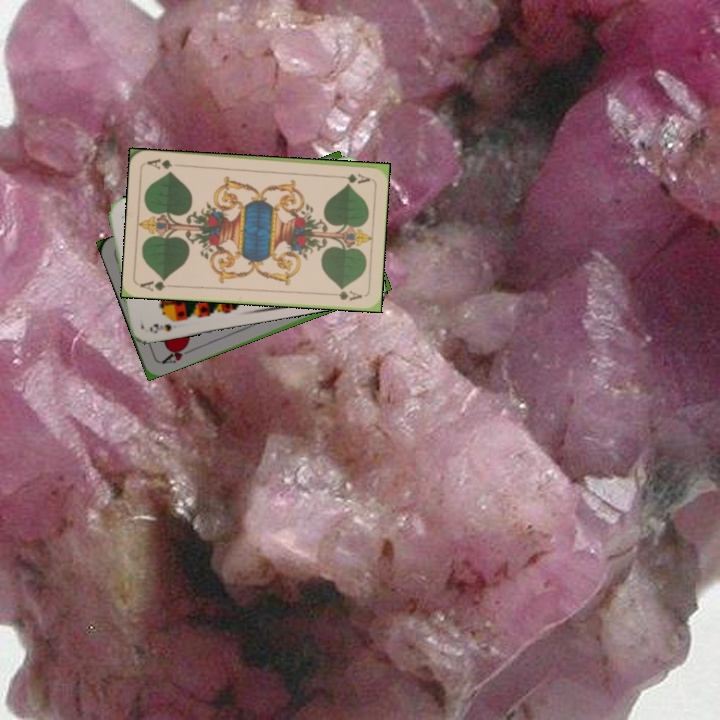GA: (137, 275, 177, 294), (332, 170, 372, 185)
HA: (157, 340, 196, 366)
S9: (145, 314, 184, 336)
